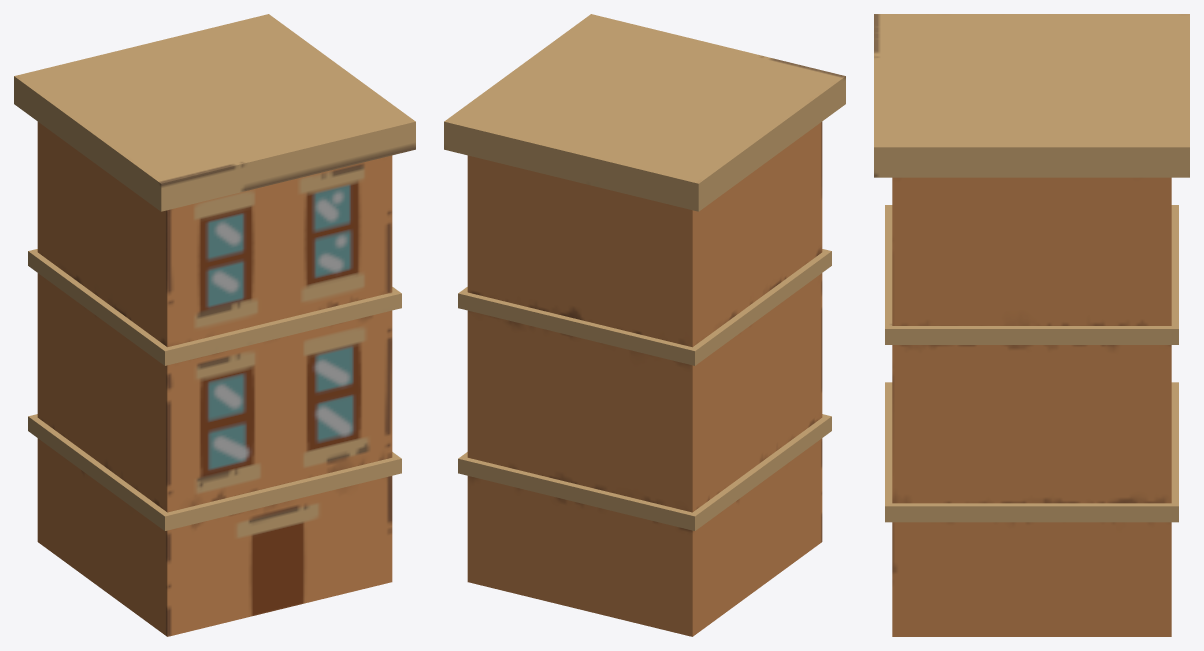
The model's file is PRP_Building_01.fbx.
The picture shows the model from 3 angles, left to right: view 1: azimuth 30°, elevation 25°; view 2: azimuth 150°, elevation 25°; view 3: azimuth 270°, elevation 25°; orthographic projection. The views are drawn at different scales.
Visible parts, largest first — view 1: Cube.076; view 2: Cube.076; view 3: Cube.076.
Boxes of the visible parts, box(x1,y1,x2,y2) form: Cube.076: box(14, 14, 415, 636); Cube.076: box(444, 14, 845, 636); Cube.076: box(874, 14, 1189, 636).
Size of the model in its own units: 871 by 1514 by 871.
Materials: 1 (1 with a texture image).
